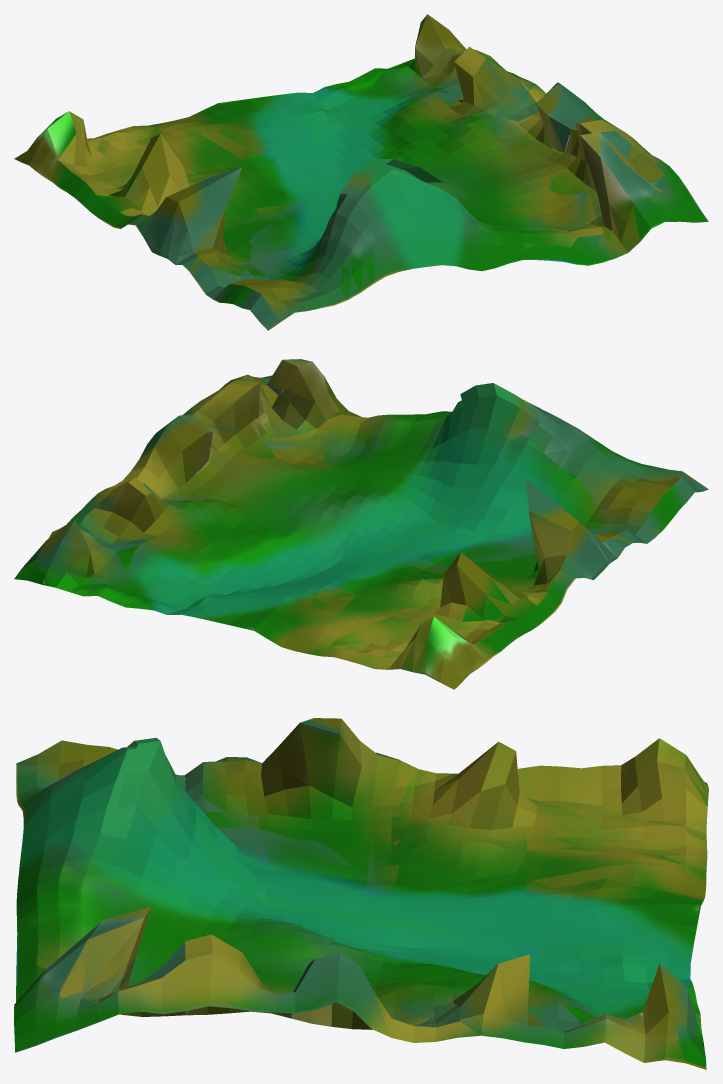
Rendered from terrain 1.fbx.
The picture shows the model from 3 angles, top to bottom: view 1: azimuth 30°, elevation 25°; view 2: azimuth 150°, elevation 25°; view 3: azimuth 270°, elevation 25°; orthographic projection. The views are drawn at different scales.
Parts seen in each view (by area): view 1: Plane, Plane.001, Plane.003; view 2: Plane, Plane.003, Plane.001; view 3: Plane, Plane.001, Plane.003.
Boxes of the visible parts, x1=… form: Plane: x1=14, y1=14, x2=708, y2=330; Plane.001: x1=148, y1=110, x2=421, y2=238; Plane.003: x1=336, y1=159, x2=442, y2=207; Plane: x1=14, y1=359, x2=708, y2=689; Plane.003: x1=426, y1=383, x2=539, y2=531; Plane.001: x1=267, y1=397, x2=545, y2=656; Plane: x1=14, y1=718, x2=708, y2=1069; Plane.001: x1=107, y1=746, x2=706, y2=913; Plane.003: x1=116, y1=737, x2=262, y2=907.
Bounding box in the file's own units: 202 × 53.09 × 201.
